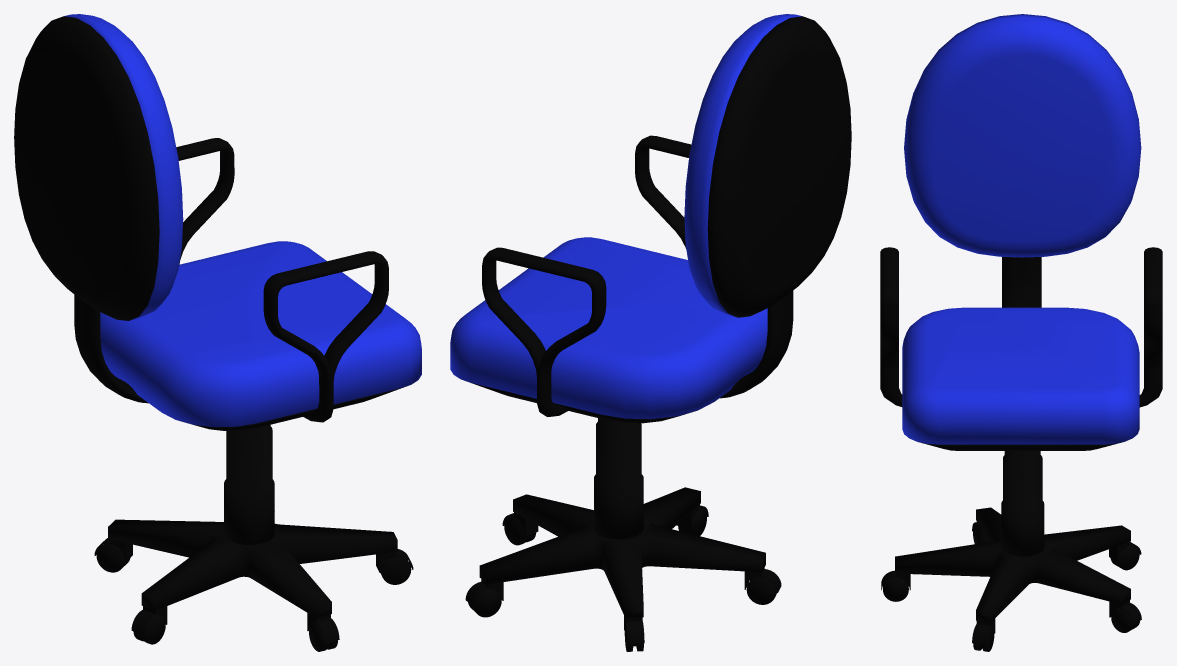
File: fotel.fbx
3 renders of one model, left to right at view 1: azimuth 30°, elevation 25°; view 2: azimuth 150°, elevation 25°; view 3: azimuth 270°, elevation 25°, orthographic. The views are drawn at different scales.
Parts seen in each view (by area): view 1: Cylinder.003; view 2: Cylinder.003; view 3: Cylinder.003.
Boxes of the visible parts, bbox=[...] form: Cylinder.003: bbox=[14, 14, 421, 651]; Cylinder.003: bbox=[450, 14, 851, 651]; Cylinder.003: bbox=[880, 14, 1162, 651].
Bounding box in the file's own units: 263 × 483 × 238.
